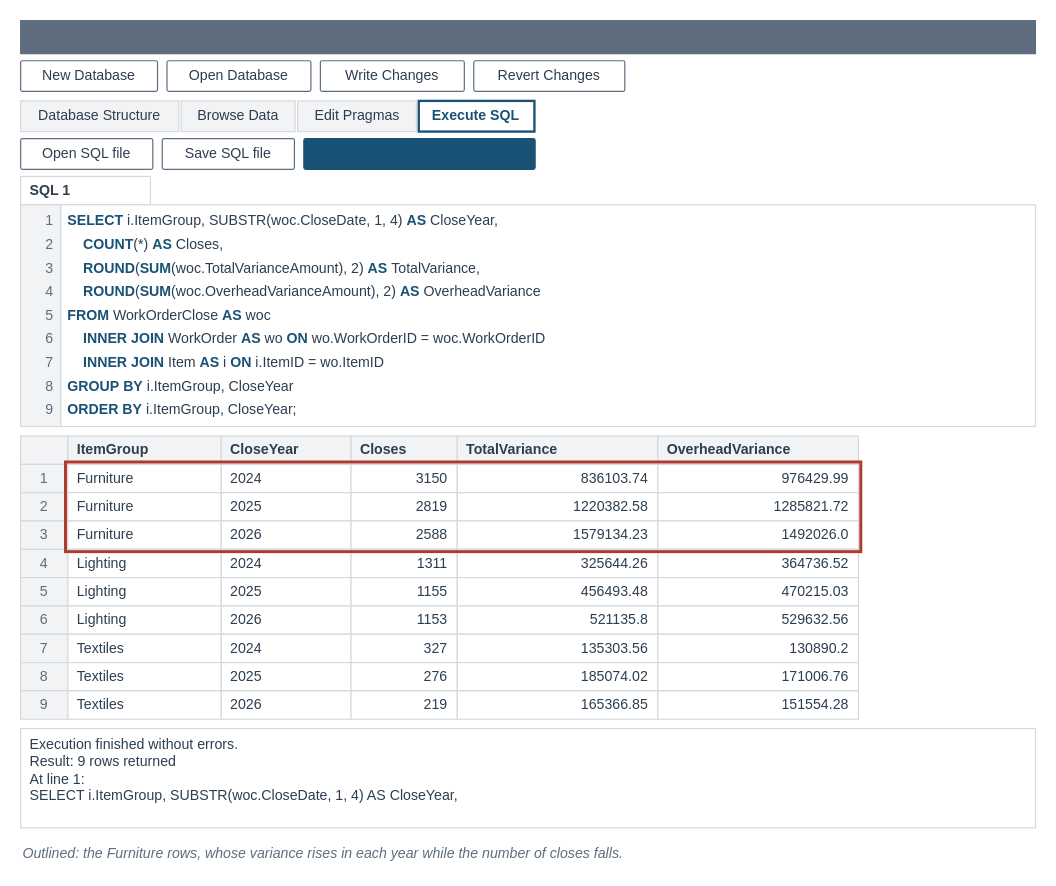
Some shapes in this 1056 by 886 pixel diagram are drawn without their labels. Here are the shapes that lost their labels. From the top down, the centre of each, then its label:
(527,36): DB Browser for SQLite - CharlesRiver_Work.sqlite
(419,153): ▶ Execute all/selected SQL
